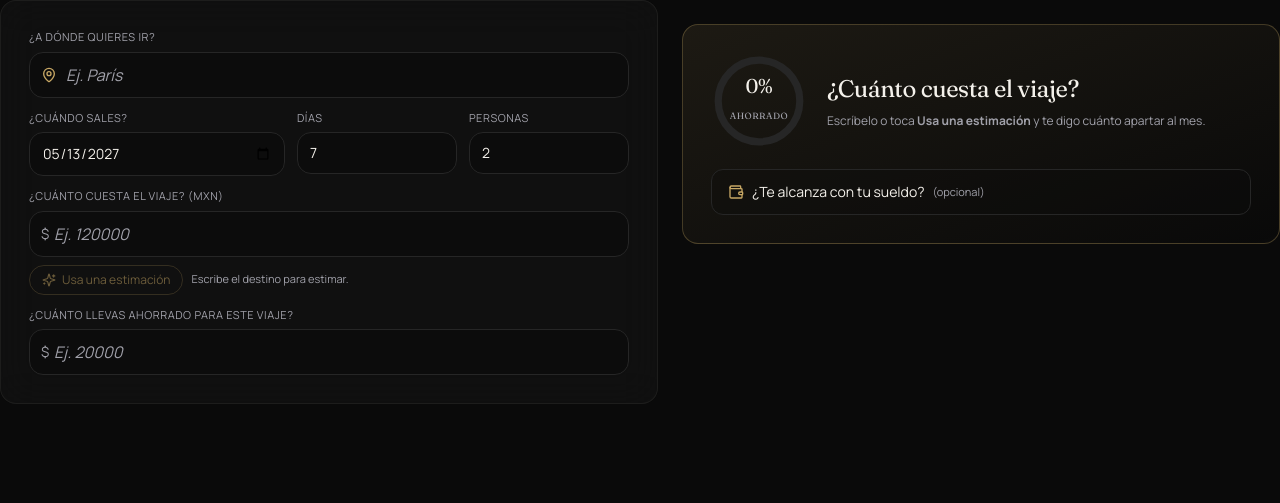
it: Ahorro para tu viaje: pantalla › funciona SIN viaje planeado: destino, fecha, estimación y ahorro → monto mensual
The image size is (1280, 503).
Later steps or results of the test are not shown.
Check: the text "¿Cuánto cuesta el viaje?" is shown, box 827,74 -> 1079,103
Step 1. Type "París" into the field labelled "¿A dónde quieres ir?" → (329, 74), box 29,52 -> 629,98
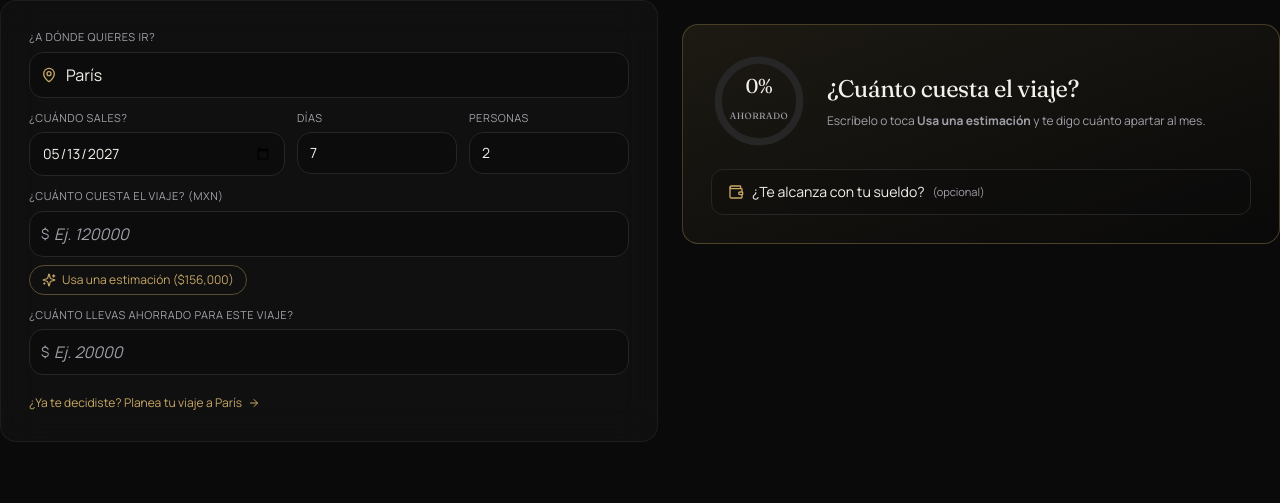
Step 2. Type "2099-01-01" into the date field labelled "¿Cuándo sales?" → (157, 154), box 29,132 -> 285,176
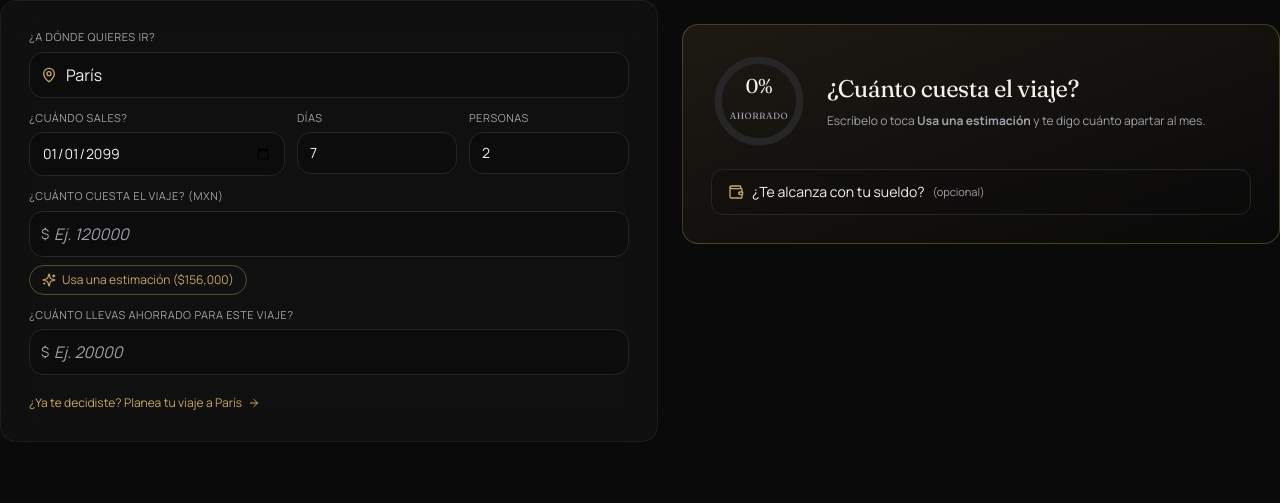
Step 3. Click the button "Usa una estimación ($156,000)" → (138, 280), box 29,264 -> 247,294
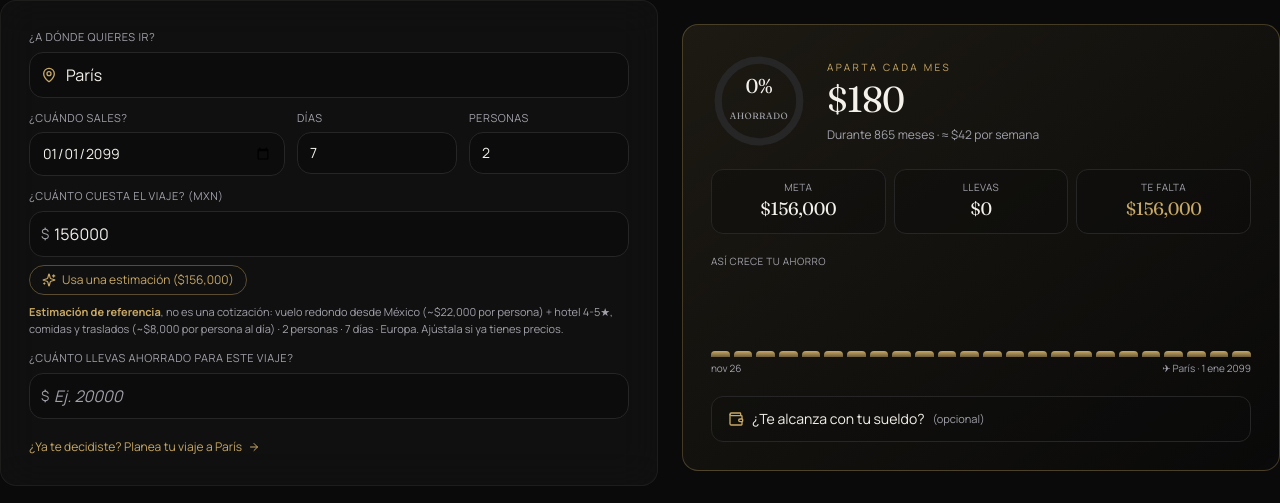
Check: the number field labelled "¿Cuánto cuesta el viaje? (MXN)" holds "156000", box 29,210 -> 629,256
Step 4. Type "6000" into the number field labelled "¿Cuánto llevas ahorrado para este viaje?" → (329, 396), box 29,373 -> 629,419
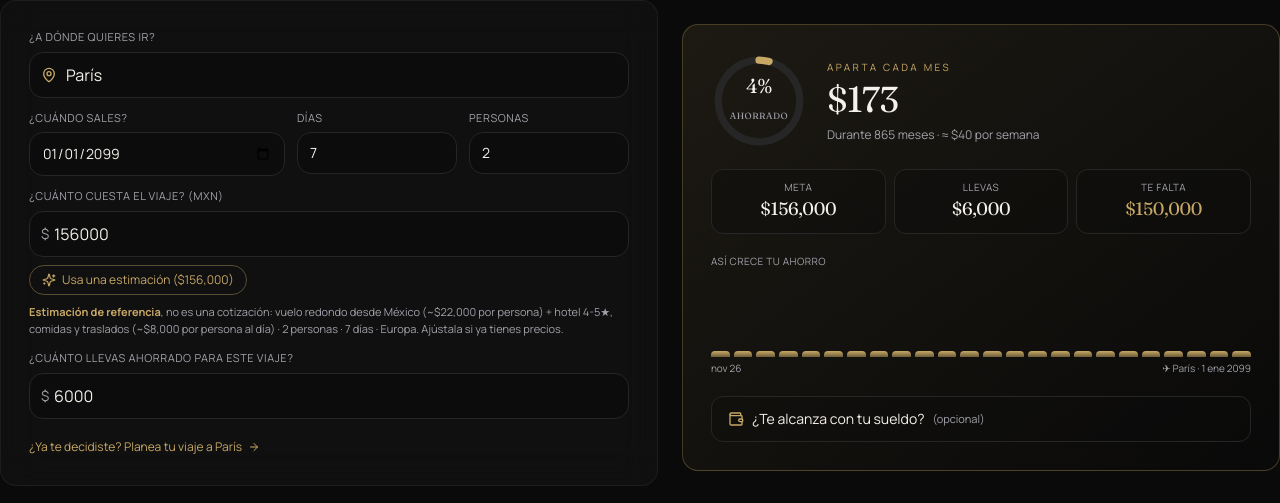
Check: the text "Aparta cada mes" is shown, box 827,60 -> 951,74
Check: the text with test id "ahorro-mensual" shows "$", box 827,76 -> 898,120
Check: the picture named "Llevas el 4% de la meta" is shown, box 711,53 -> 807,149
